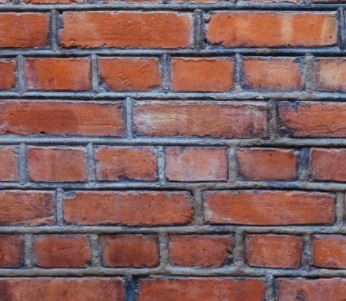brick: (131, 99, 269, 139), (202, 189, 338, 227), (207, 8, 339, 44), (64, 190, 193, 226), (1, 101, 127, 137), (58, 12, 195, 45), (15, 52, 91, 101), (132, 273, 267, 299), (1, 274, 125, 299), (161, 143, 230, 184), (275, 99, 346, 137), (93, 145, 159, 184), (170, 54, 235, 93), (168, 232, 235, 268), (241, 231, 302, 269), (25, 145, 89, 181), (1, 187, 58, 227), (240, 56, 303, 92), (102, 231, 161, 269), (95, 55, 160, 89), (235, 146, 298, 180), (35, 234, 90, 269), (274, 274, 346, 300), (1, 12, 50, 46), (305, 145, 346, 181), (311, 58, 346, 94), (312, 233, 346, 265), (1, 234, 27, 268), (1, 144, 19, 181)
